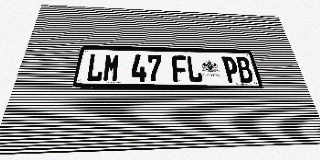4: (131, 54, 147, 82)
7: (147, 55, 162, 82)
B: (235, 57, 255, 83)
F: (172, 55, 188, 82)
L: (85, 54, 105, 82), (186, 56, 203, 82)
M: (102, 54, 120, 82)
P: (221, 56, 240, 83)
